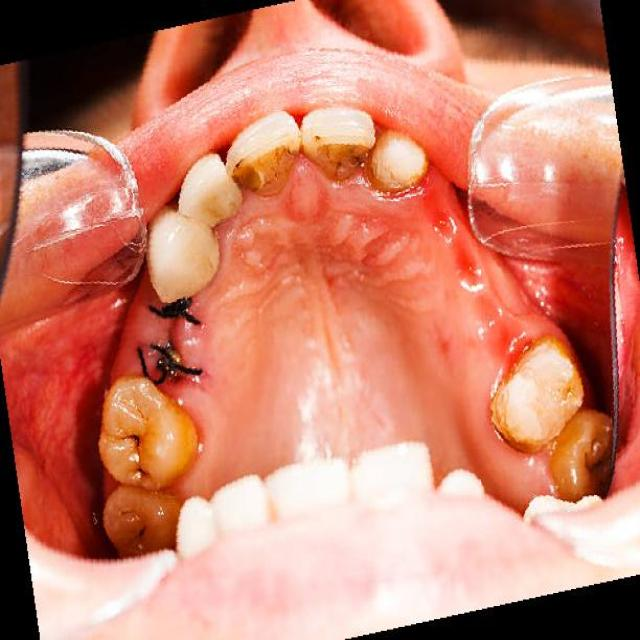caries: (118, 428, 142, 470)
